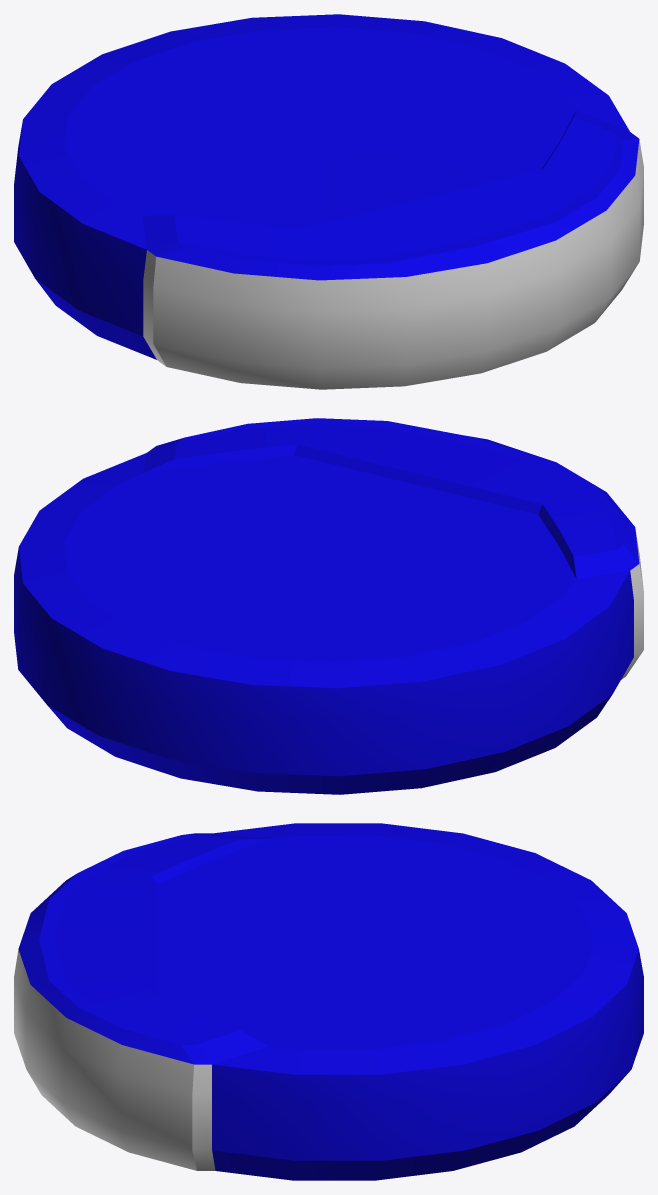
The model's file is Roomba.fbx.
3 renders of one model, top to bottom at view 1: azimuth 30°, elevation 25°; view 2: azimuth 150°, elevation 25°; view 3: azimuth 270°, elevation 25°, orthographic. The views are drawn at different scales.
Visible parts, largest first — view 1: Roomba_Base; view 2: Roomba_Base; view 3: Roomba_Base.
Part boxes in pixels (x1,y1,x2,y2): Roomba_Base: (14,14,643,389); Roomba_Base: (14,418,643,794); Roomba_Base: (14,823,643,1180).
Bounding box in the file's own units: 146 × 33.7 × 152.
